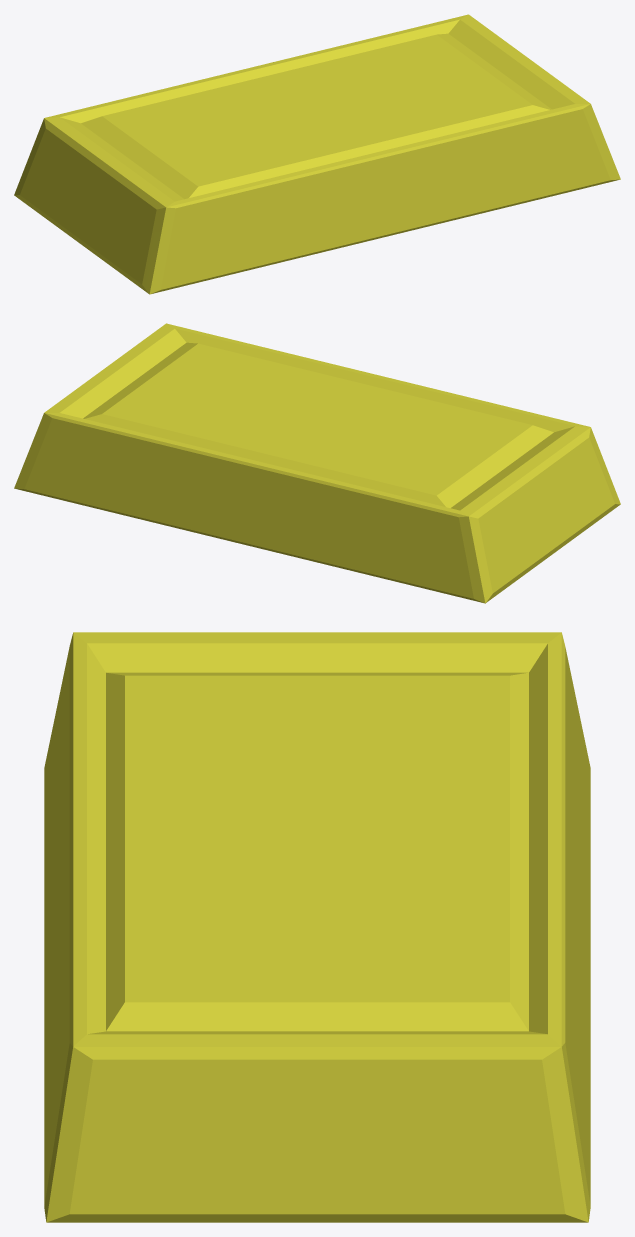
The model's file is gold_ingot.glb.
The picture shows the model from 3 angles, top to bottom: view 1: azimuth 30°, elevation 25°; view 2: azimuth 150°, elevation 25°; view 3: azimuth 270°, elevation 25°; orthographic projection. The views are drawn at different scales.
Visible parts, largest first — view 1: Cube; view 2: Cube; view 3: Cube.
Part boxes in pixels (x1,y1,x2,y2): Cube: [14, 14, 620, 294]; Cube: [14, 323, 620, 603]; Cube: [44, 632, 590, 1222].
Size of the model in its own units: 1 by 0.156 by 0.5.
